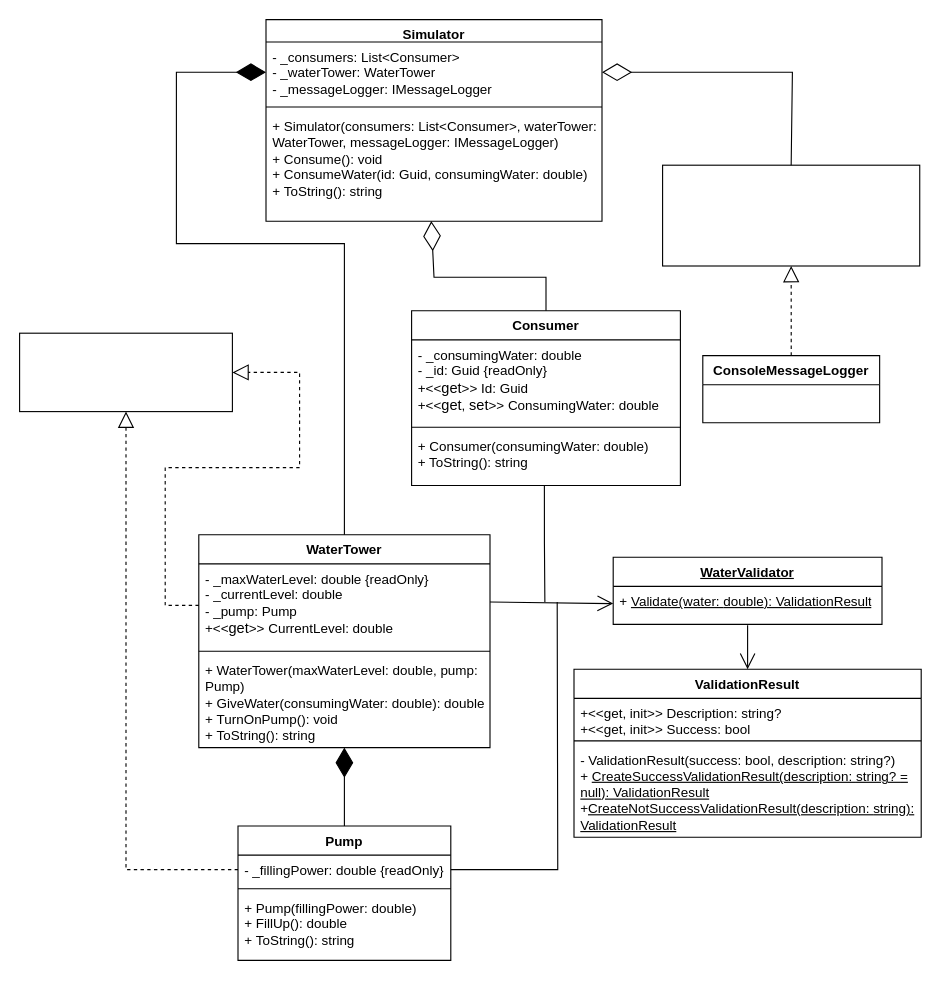
Some shapes in this 941 by 983 pixel diagram are drawn without their labels. Here are the shapes that lost their labels. From the top down, the centre of each, then its label:
the point at 790,215: <<Interface>> IMessageLogger + Log(message: string, mark: string? = null): void
the point at 125,372: <<Interface>> ICloneable + Clone(): object
